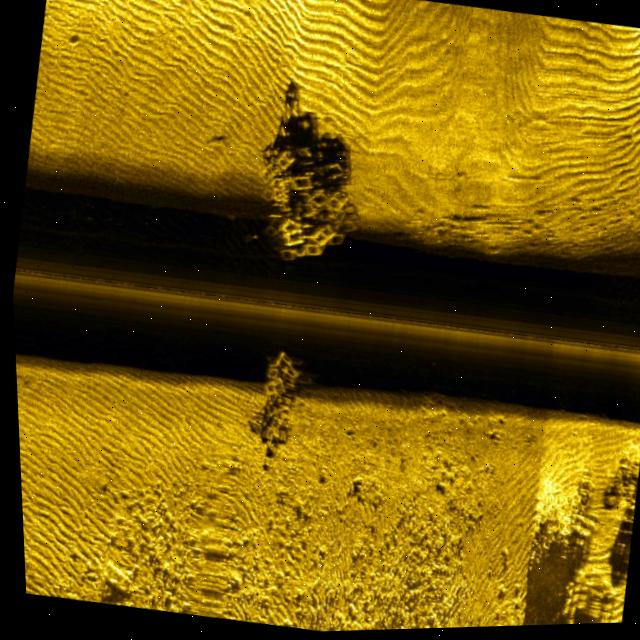artificial reef: (234, 128, 371, 283), (236, 343, 320, 456)
